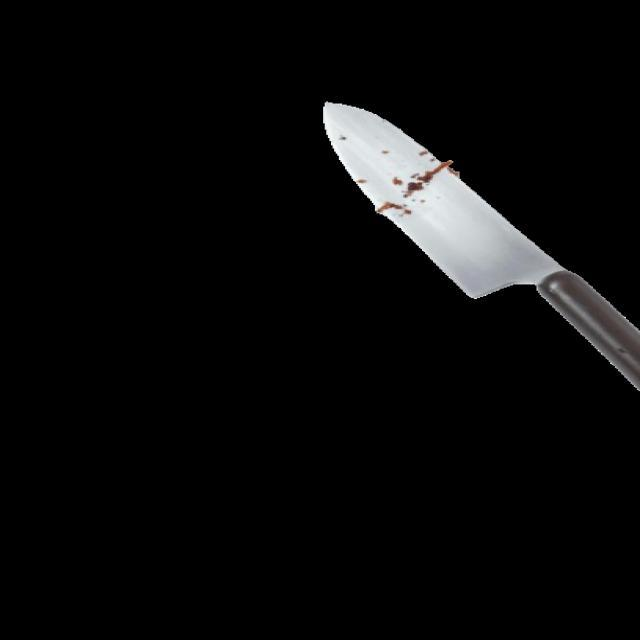knife: (327, 96, 638, 396)
